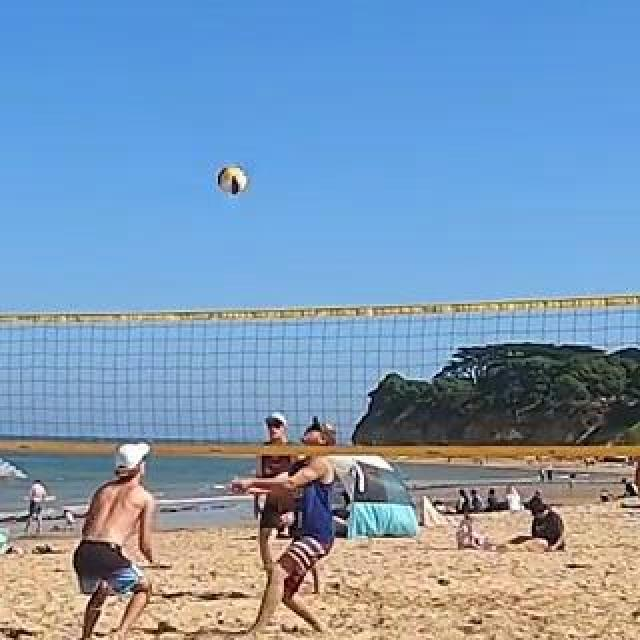volleyball: (216, 166, 246, 194)
